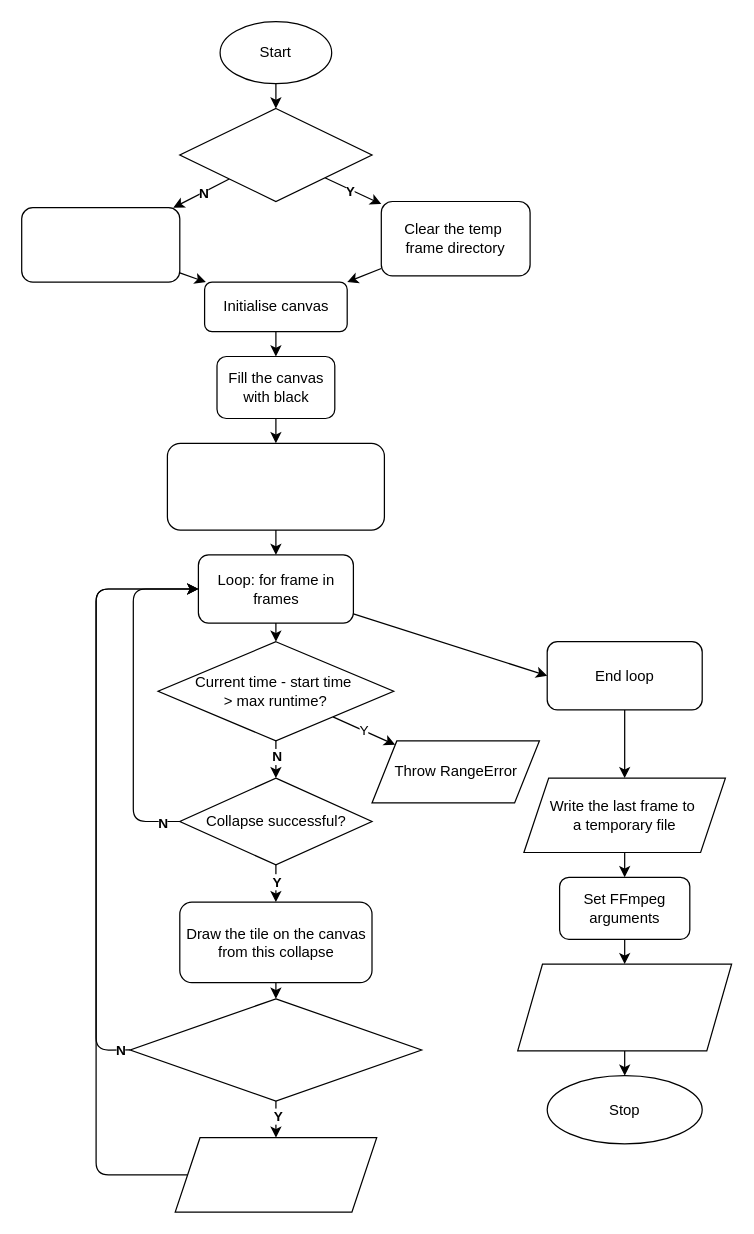
This 754x1234 diagram has some shape labels left out. The shapes that lost their labels are listed below. From the top down, each one's centre as x and y in pixels, then its label:
At (275,154): "Temp frame directory exists?".
At (100,244): "Create empty temp frame directory".
At (275,486): "Set the frame interval to number of frames / maximum frames".
At (624,1007): "Create video from frames in temp dir and save to output dir".
At (275,1049): "Has it been [frameInterval] frames since last save?".
At (275,1174): "Write the frame to a temporary file".
